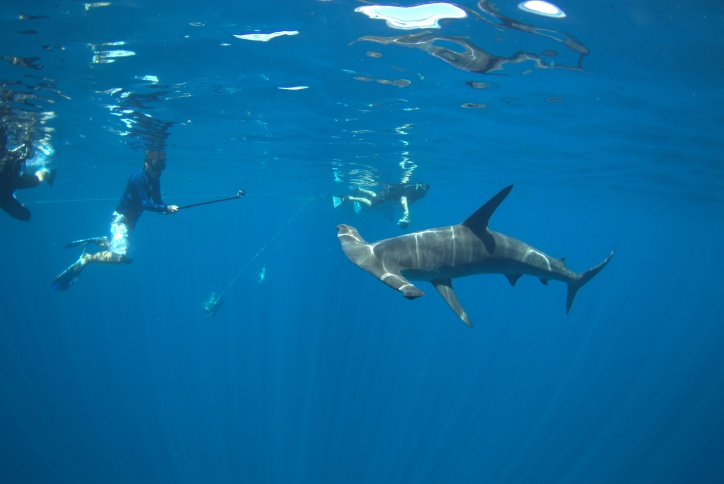Hammer: (312, 179, 639, 342)
